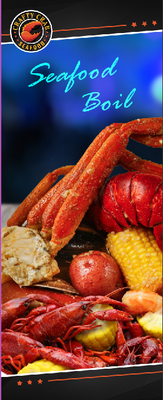pizza: (6, 165, 77, 227)
